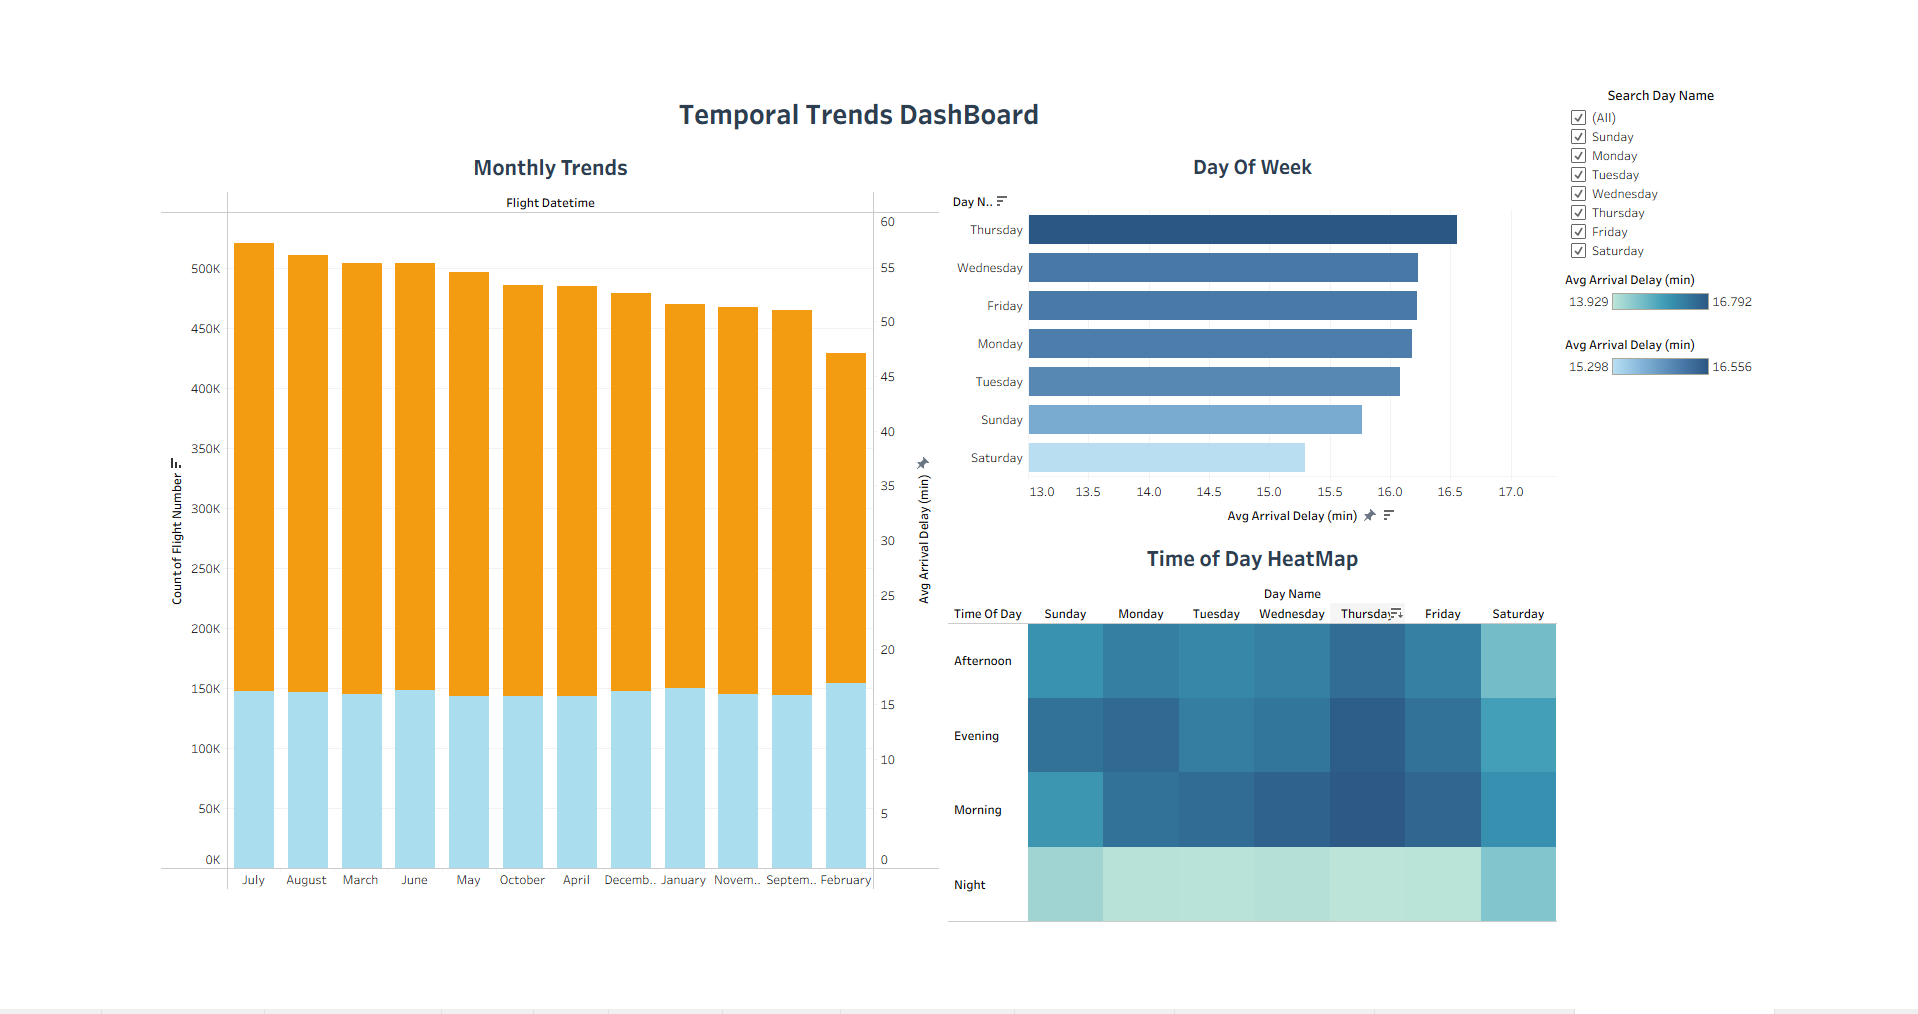

What the dashboard file says about the page in this screenshot:
{"tool":"tableau","page":{"name":"Temporal Trends Dashboard 4","canvas":[1000,1000],"units":"permille","ordinal":3},"visuals":[{"type":"text","box":[4.9,9.3,866.7,72.1]},{"type":"filter","title":"4 day of week vs time of day","param":"[federated.1ccrphf068hgr41gzwuv20bkgd8a].[none:day_name:nk]","box":[871.6,9.3,123.5,215.1]},{"type":"worksheet","title":"4. Monthly trends","mark":"Bar","rows":["flight_number","Calculation_1313925253318283274"],"cols":["flight_datetime"],"box":[4.9,81.4,485.8,872.1]},{"type":"worksheet","title":"4 Day of Week Bar","mark":"Bar","rows":["day_name"],"cols":["Calculation_1313925253318283274"],"box":[490.7,81.4,380.9,454.7]},{"type":"legend","title":"4 day of week vs time of day","param":"[federated.1ccrphf068hgr41gzwuv20bkgd8a].[usr:Calculation_1313925253318283274:qk","box":[871.6,224.4,123.5,75.6]},{"type":"legend","title":"4 Day of Week Bar","param":"[federated.1ccrphf068hgr41gzwuv20bkgd8a].[usr:Calculation_1313925253318283274:qk","box":[871.6,300,123.5,75.6]},{"type":"worksheet","title":"4 day of week vs time of day","mark":"Automatic","rows":["time_of_day"],"cols":["day_name"],"box":[490.7,536,380.9,454.7]}]}

Visuals, with their boxes on the dashboard's canvas, which has no fixed pixel size, in thousandths of its width and height (x1, y1, x2, y2). These are canvas units, not pixel positions in the 1918x1014 screenshot, which may show the page scaled, cropped or inside an application window:
text: (5, 9, 872, 81)
"4 day of week vs time of day" filter: (872, 9, 995, 224)
"4. Monthly trends" worksheet (Bar marks): (5, 81, 491, 954)
"4 Day of Week Bar" worksheet (Bar marks): (491, 81, 872, 536)
"4 day of week vs time of day" legend: (872, 224, 995, 300)
"4 Day of Week Bar" legend: (872, 300, 995, 376)
"4 day of week vs time of day" worksheet: (491, 536, 872, 991)
